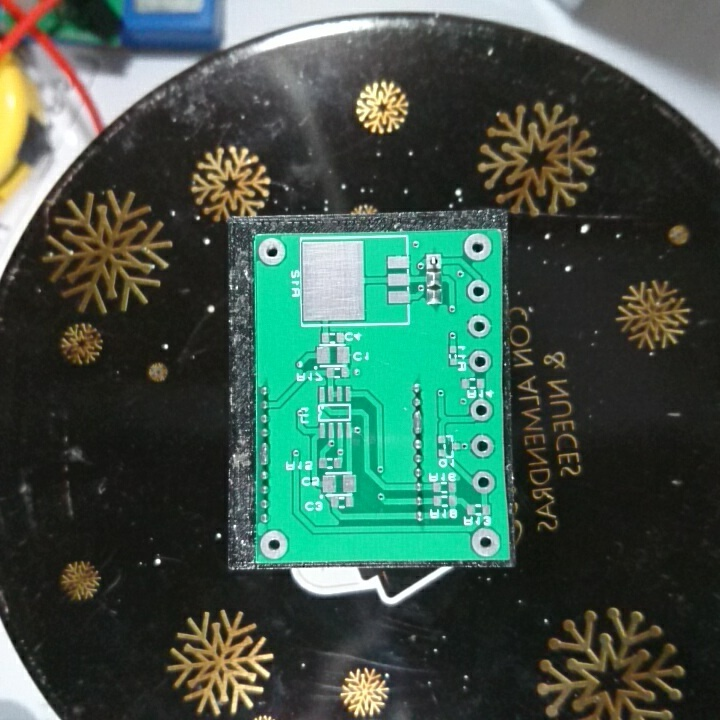F: (467, 525, 505, 559), (257, 526, 295, 560), (461, 231, 494, 265), (256, 235, 289, 269), (465, 310, 494, 341), (466, 346, 496, 374), (469, 429, 496, 460), (470, 467, 499, 495), (464, 277, 492, 303), (470, 398, 496, 423), (422, 251, 444, 271)
P: (411, 406, 428, 438), (257, 440, 276, 468)
